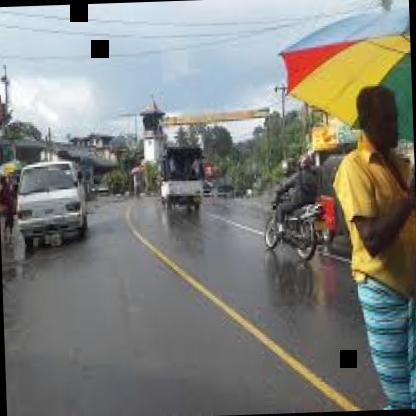car: (9, 154, 98, 257), (151, 129, 213, 226)
